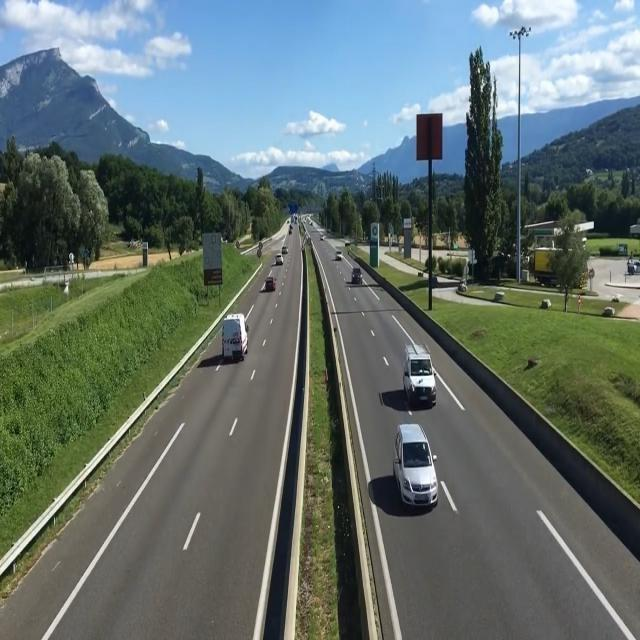Car: (392, 422, 439, 504), (264, 276, 276, 291), (352, 267, 363, 283), (276, 254, 284, 265), (336, 250, 344, 260)
Van: (403, 342, 438, 406), (221, 311, 250, 360)
